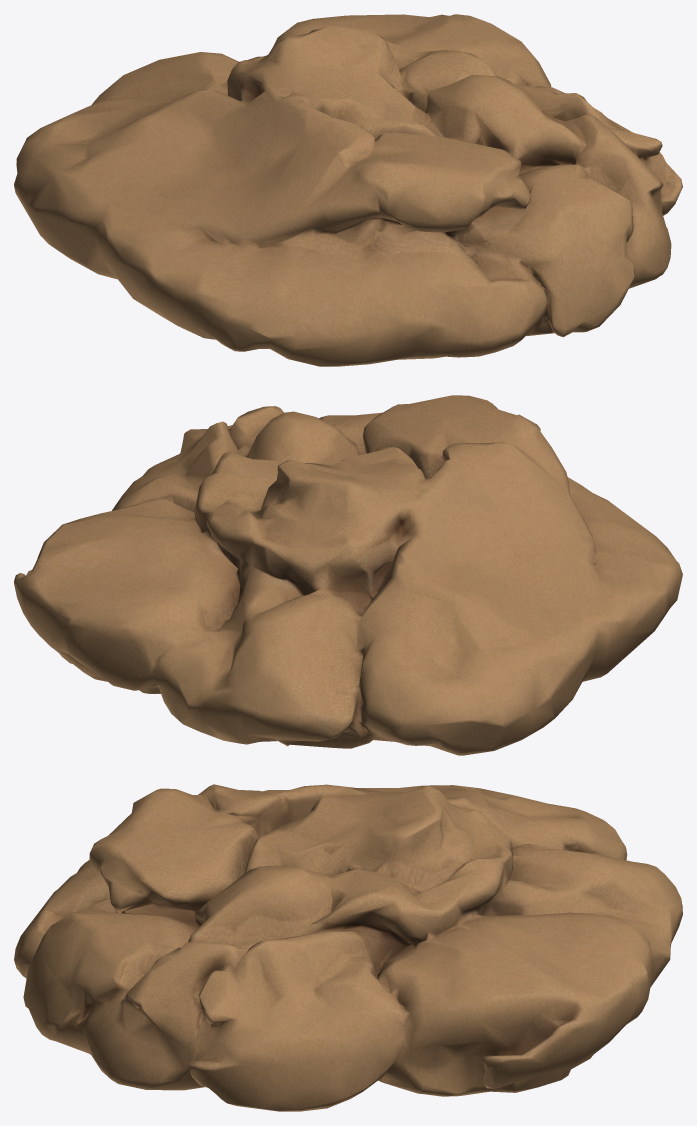
The model's file is Prop_WasteSoft.glb.
The picture shows the model from 3 angles, top to bottom: view 1: azimuth 30°, elevation 25°; view 2: azimuth 150°, elevation 25°; view 3: azimuth 270°, elevation 25°; orthographic projection. The views are drawn at different scales.
Bounding box in the file's own units: 1.74 × 0.6029 × 1.9.
1 material, 1 textured.
